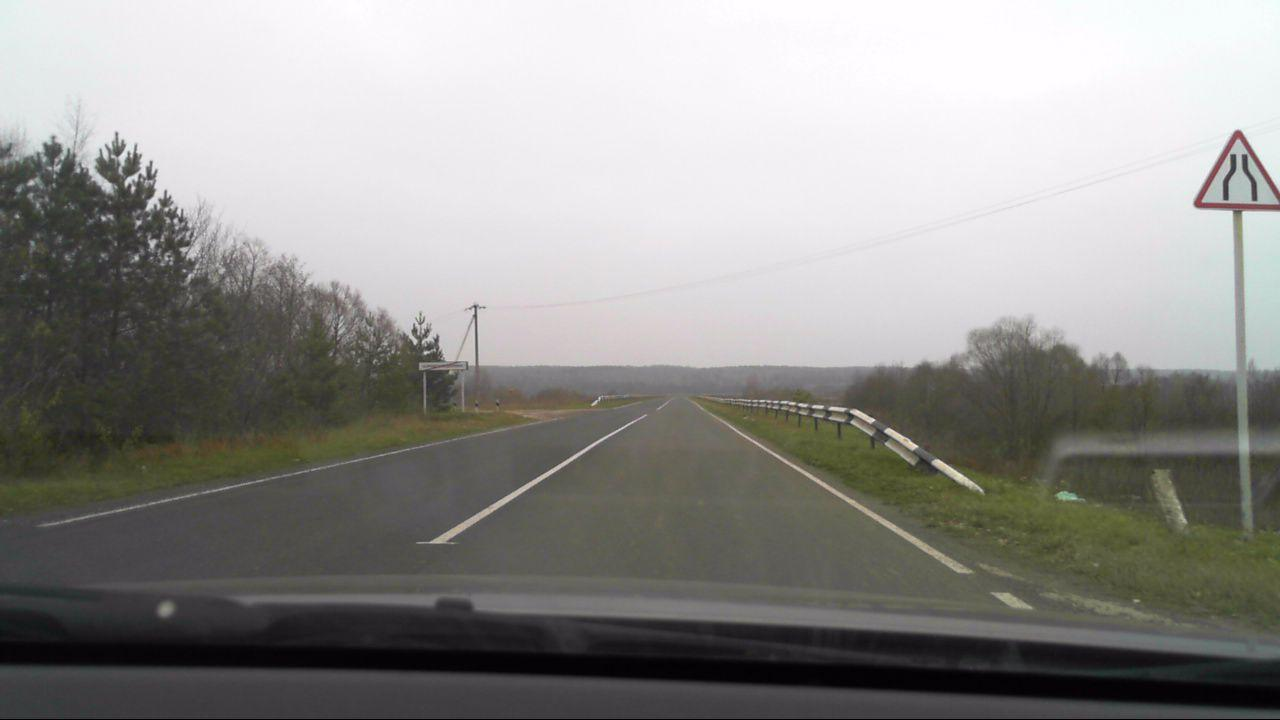1_20_1: (1184, 131, 1279, 214)
